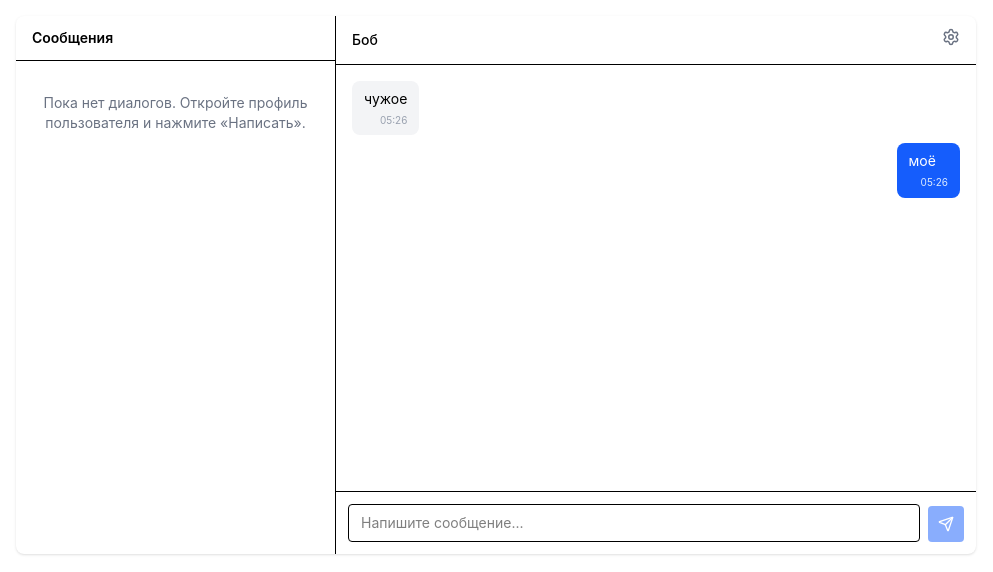
MessagesPage: редактирование › при ошибке показывает её и остаётся в режиме правки
Click the text "моё" at (922, 161), box [909,152,936,169]
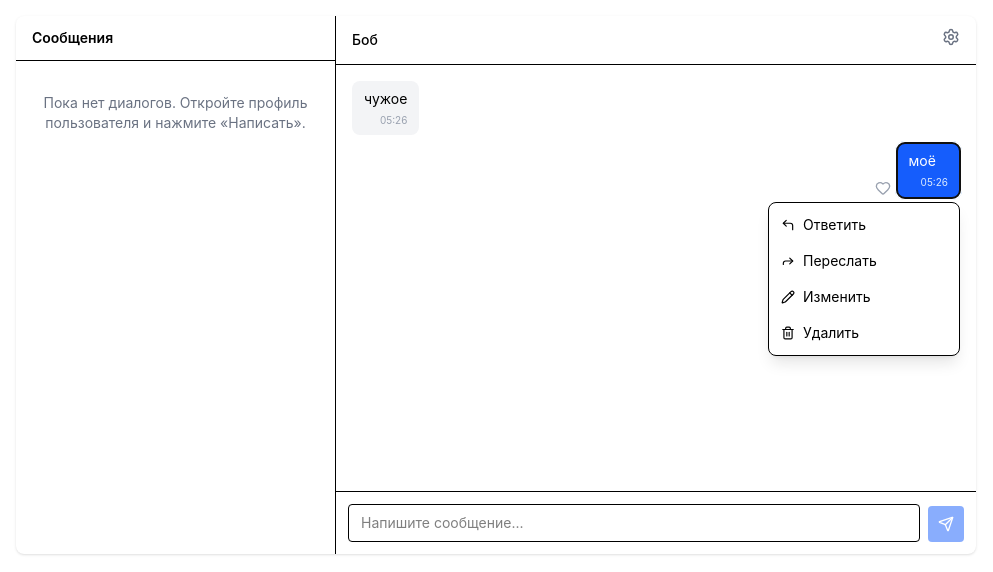
Click the menu item "Изменить" at (864, 297), box [769,279,959,315]
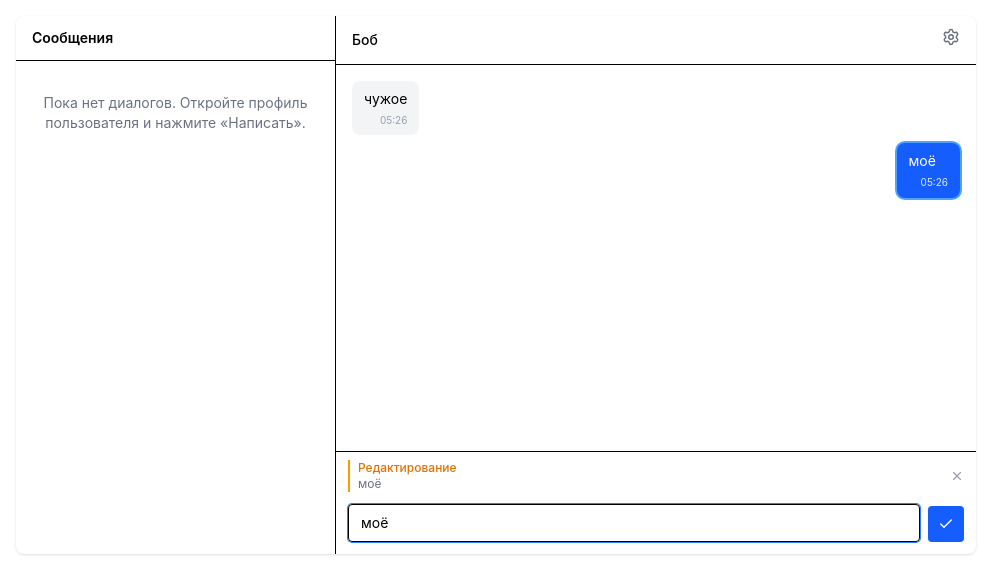
Type "!" into the text box with placeholder "Напишите сообщение..." at (634, 523), box [348,504,920,542]
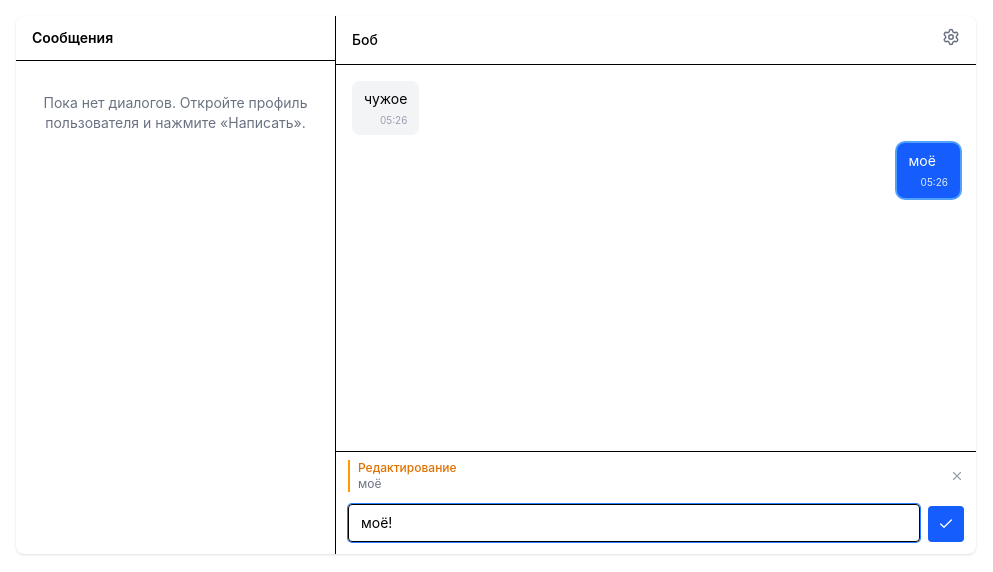
Click the button named "Сохранить" at (946, 524), box [928,506,964,542]
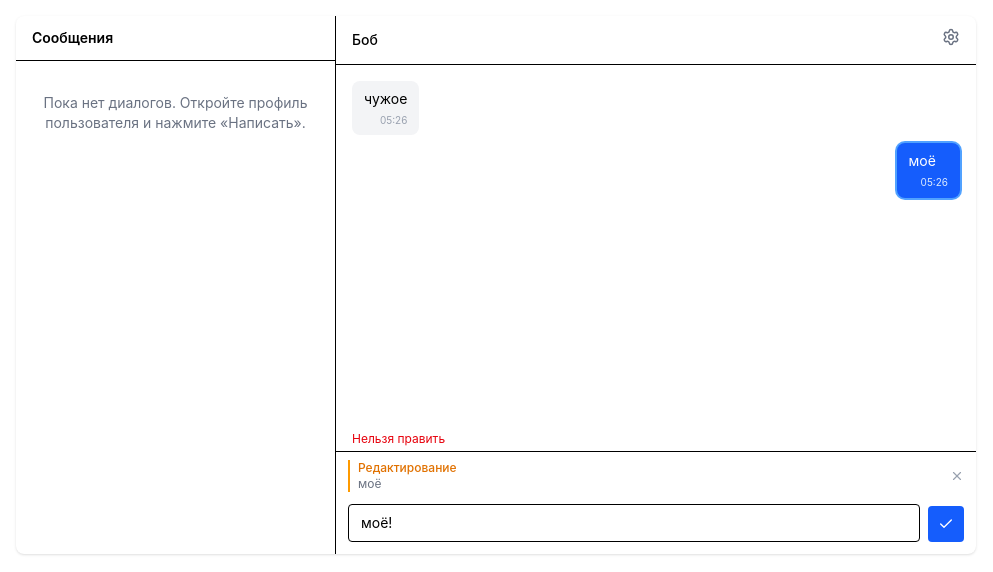
Expected: the button named "Отменить редактирование" is shown, [950,469,964,483]
Expected: the text box with placeholder "Напишите сообщение..." holds "моё!", [348,504,920,542]
Expected: the text "Нельзя править" is shown, [352,431,445,446]
